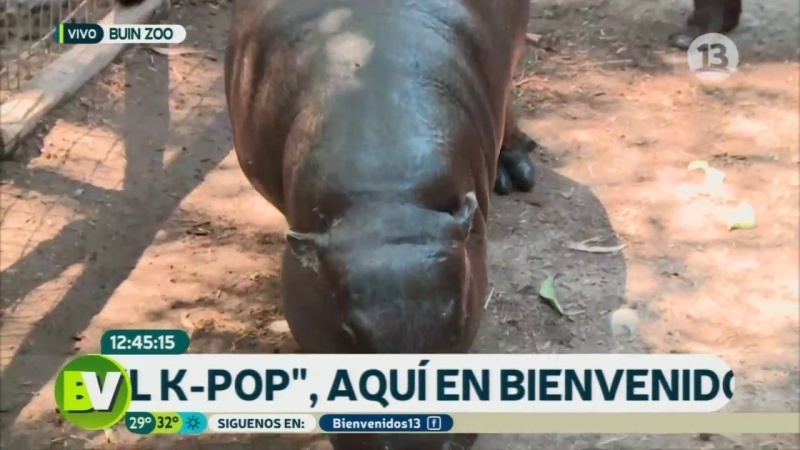hipopotamo: (206, 1, 559, 353)
